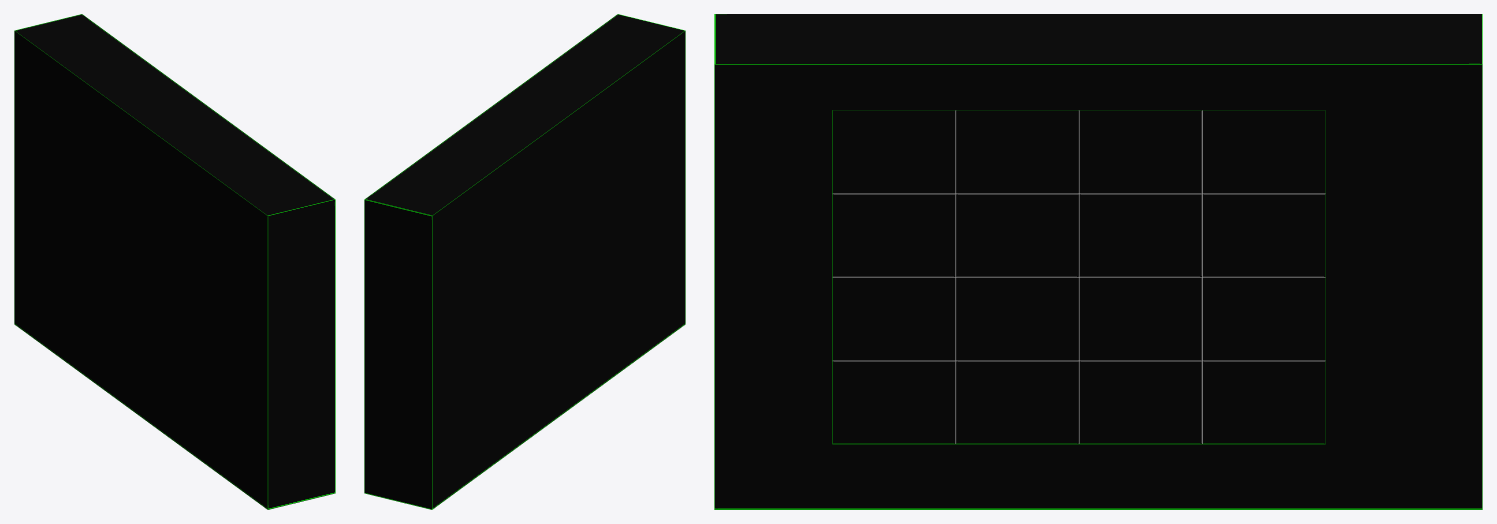
The model's file is wall with grafiti.FBX.
The picture shows the model from 3 angles, left to right: view 1: azimuth 30°, elevation 25°; view 2: azimuth 150°, elevation 25°; view 3: azimuth 270°, elevation 25°; orthographic projection. The views are drawn at different scales.
Visible parts, largest first — view 1: Box001; view 2: Box001; view 3: Box001, Plane001.
Part boxes in pixels (x1,y1,x2,y2): Box001: (14, 14, 335, 509); Box001: (364, 14, 685, 509); Box001: (714, 14, 1482, 509); Plane001: (832, 110, 1325, 444).
Bounding box in the file's own units: 18.84 × 75.88 × 119.
